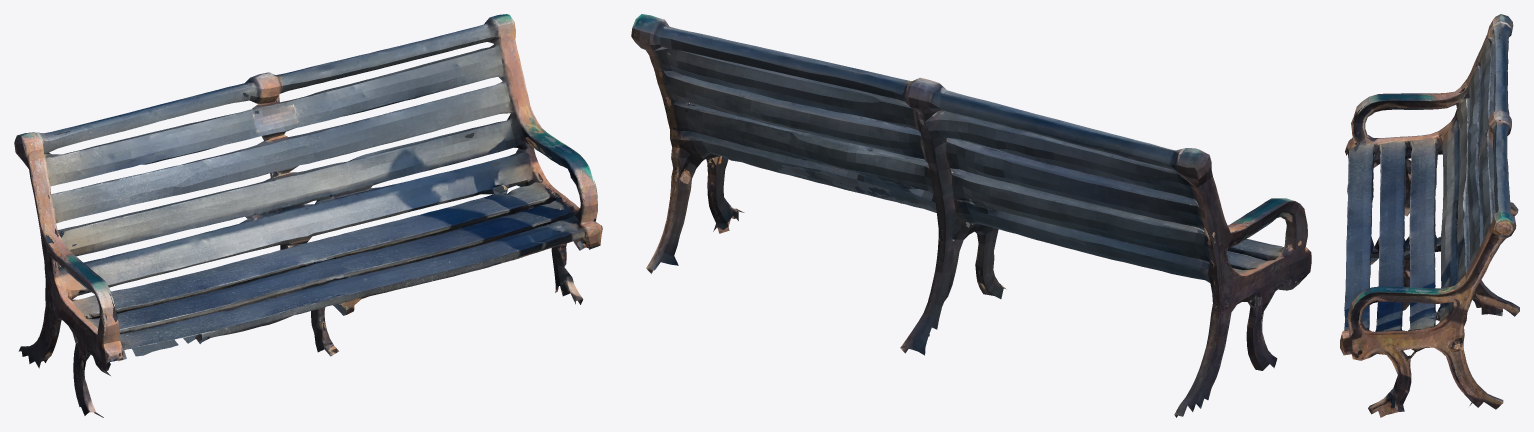
Rendered from bench-low-poly-fbx.fbx.
The picture shows the model from 3 angles, left to right: view 1: azimuth 30°, elevation 25°; view 2: azimuth 150°, elevation 25°; view 3: azimuth 270°, elevation 25°; orthographic projection. The views are drawn at different scales.
Parts seen in each view (by area): view 1: bench-lowpoly; view 2: bench-lowpoly; view 3: bench-lowpoly.
Part boxes in pixels (x1,y1,x2,y2): bench-lowpoly: [14, 14, 602, 417]; bench-lowpoly: [631, 14, 1311, 417]; bench-lowpoly: [1340, 14, 1519, 417].
Bounding box in the file's own units: 298 × 137 × 109.
